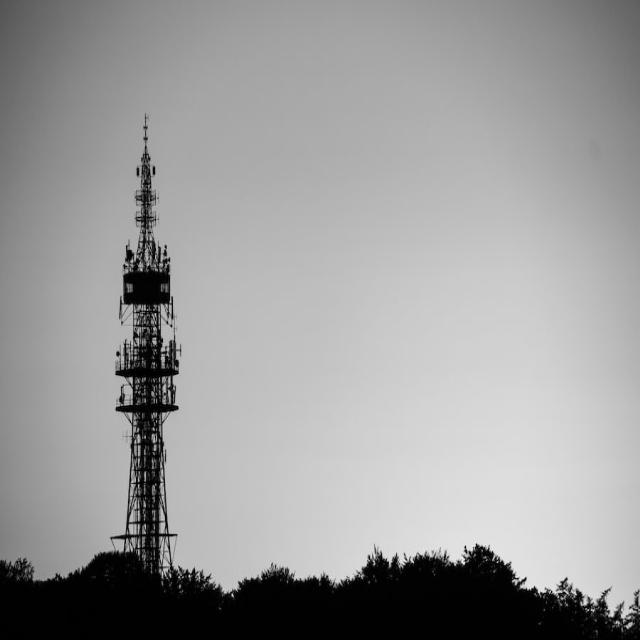transmission tower: (64, 95, 242, 563)
